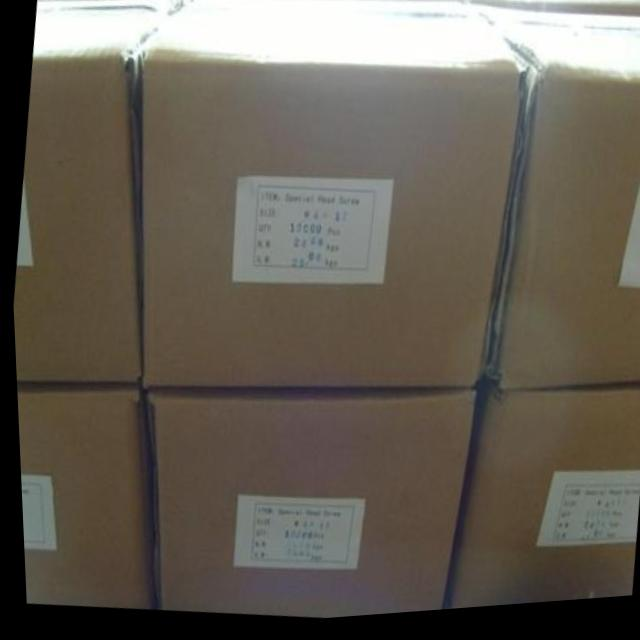box: (139, 0, 527, 393), (142, 390, 472, 622), (11, 0, 185, 385), (475, 9, 640, 399), (437, 395, 640, 616), (14, 387, 149, 610)
